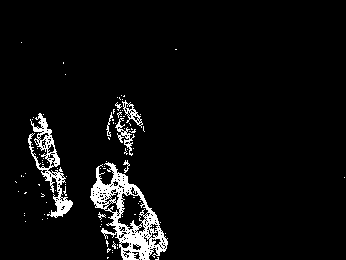person: (27, 115, 74, 215), (114, 183, 168, 260), (106, 94, 147, 167), (92, 164, 119, 258)
